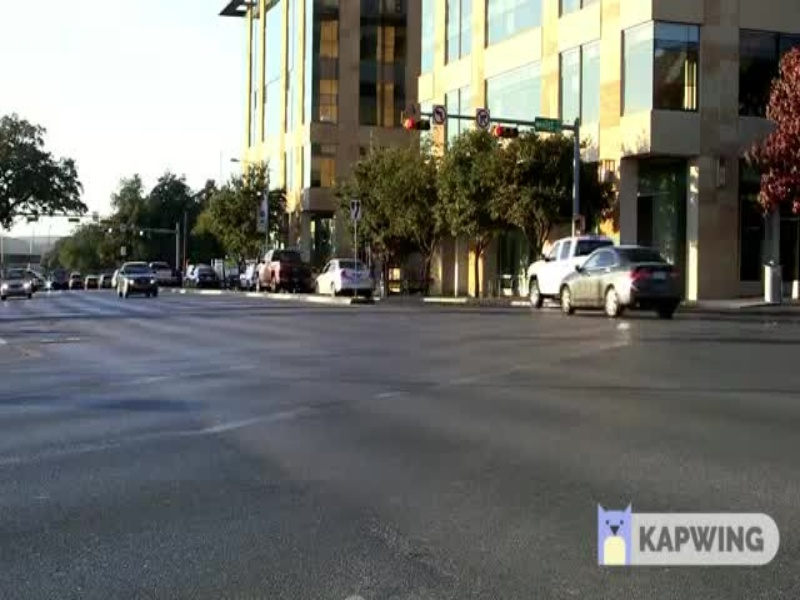car: (553, 245, 688, 318), (314, 257, 378, 301), (109, 258, 166, 301)
